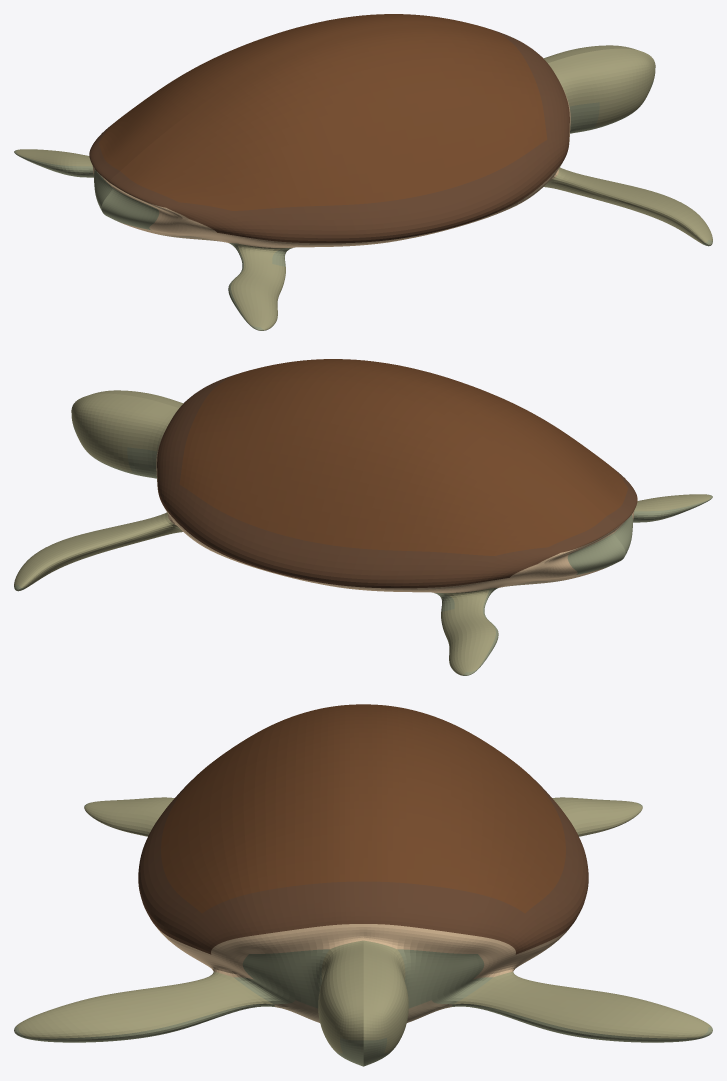
The model's file is turtle.fbx.
3 renders of one model, top to bottom at view 1: azimuth 30°, elevation 25°; view 2: azimuth 150°, elevation 25°; view 3: azimuth 270°, elevation 25°, orthographic. The views are drawn at different scales.
Visible parts, largest first — view 1: Plane.001; view 2: Plane.001; view 3: Plane.001.
Part boxes in pixels (x1=…): Plane.001: x1=14, y1=14, x2=712, y2=330; Plane.001: x1=14, y1=359, x2=712, y2=675; Plane.001: x1=14, y1=704, x2=712, y2=1066.
Size of the model in its own units: 398 by 121 by 382.
